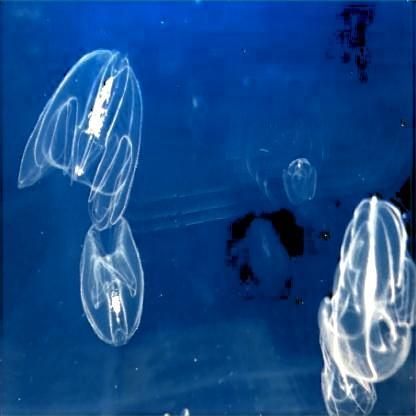Comb: (15, 49, 145, 233), (326, 196, 414, 336), (79, 218, 146, 346), (316, 296, 413, 380), (319, 316, 376, 414), (282, 156, 318, 210)
